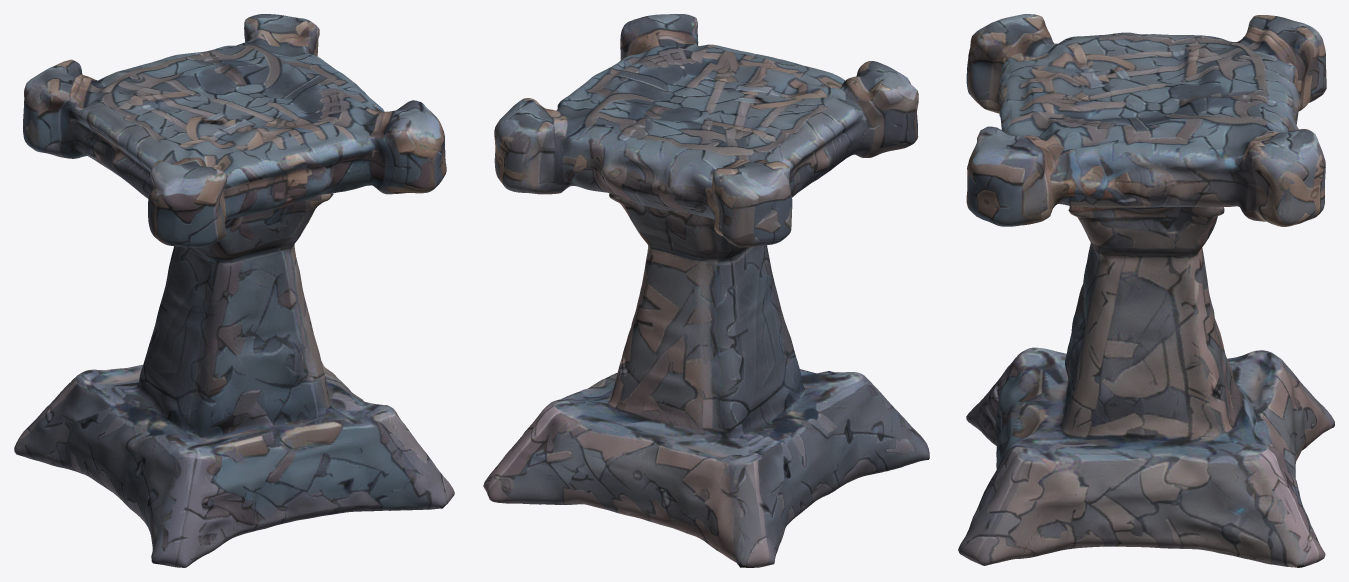
3 renders of one model, left to right at view 1: azimuth 30°, elevation 25°; view 2: azimuth 150°, elevation 25°; view 3: azimuth 270°, elevation 25°, orthographic. The views are drawn at different scales.
Visible parts, largest first — view 1: Mesh_0; view 2: Mesh_0; view 3: Mesh_0.
Boxes of the visible parts, bbox=[...] form: Mesh_0: bbox=[14, 14, 454, 567]; Mesh_0: bbox=[483, 14, 929, 567]; Mesh_0: bbox=[958, 14, 1334, 567].
Size of the model in its own units: 93.27 by 120 by 93.14.
1 material, 1 textured.
